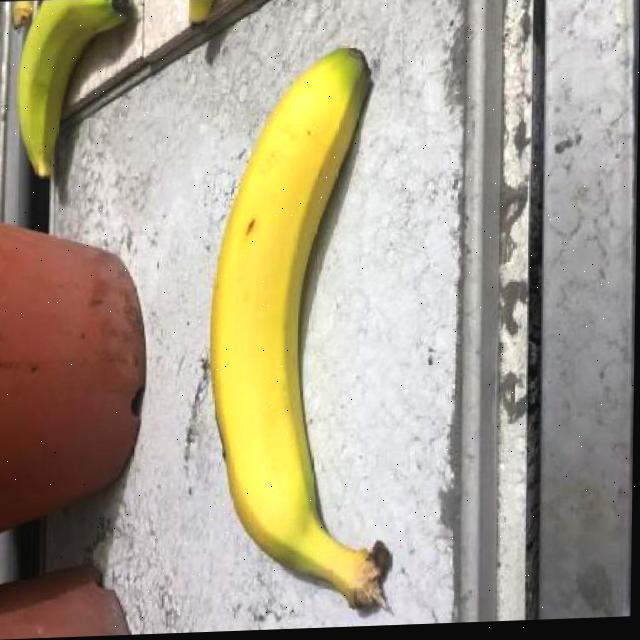banana: (198, 37, 404, 626), (2, 0, 144, 185)
